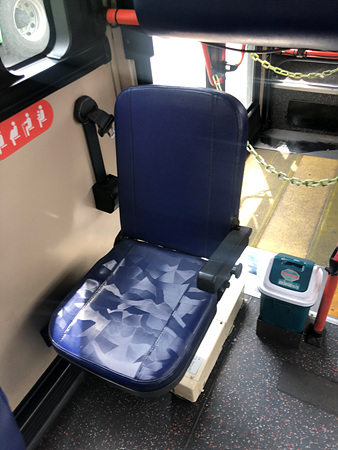seat: (48, 90, 245, 385)
